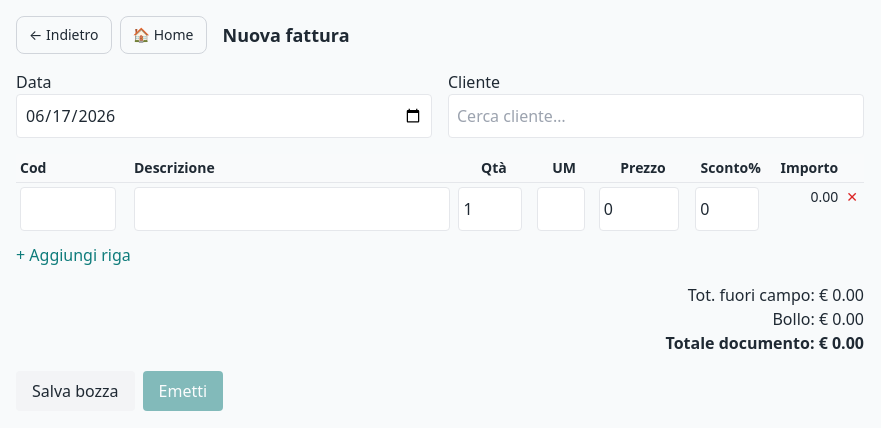
Test: EditorFattura › computes live totals with bollo when over threshold
Expected: the field with placeholder "Cerca cliente…" is shown, [448,94,864,138]
Replace the text in the 2nd number field with "100" at (639, 209), box [599,187,679,231]
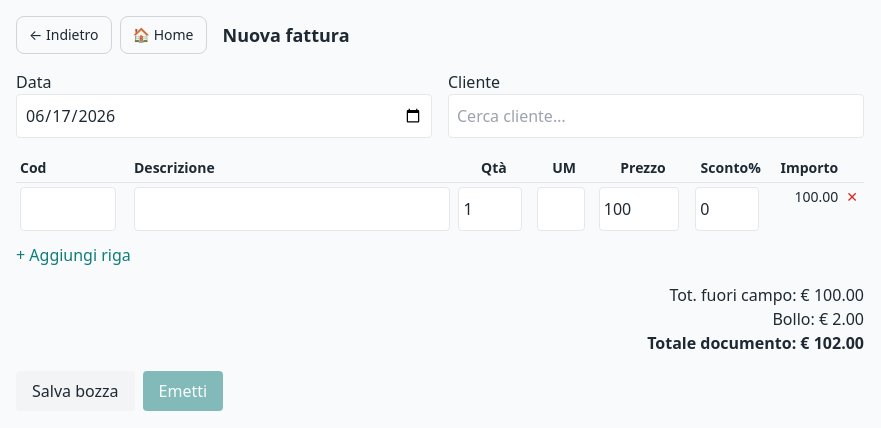
Result: the text "Bollo: € 2.00" is shown at [772,308,864,330]
Result: the text "Totale documento: € 102.00" is shown at [647,332,864,354]
